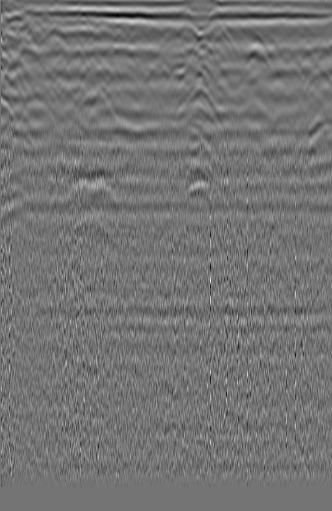상수: (292, 47, 328, 86)
오수: (8, 18, 46, 62)
우수: (144, 53, 176, 85)
